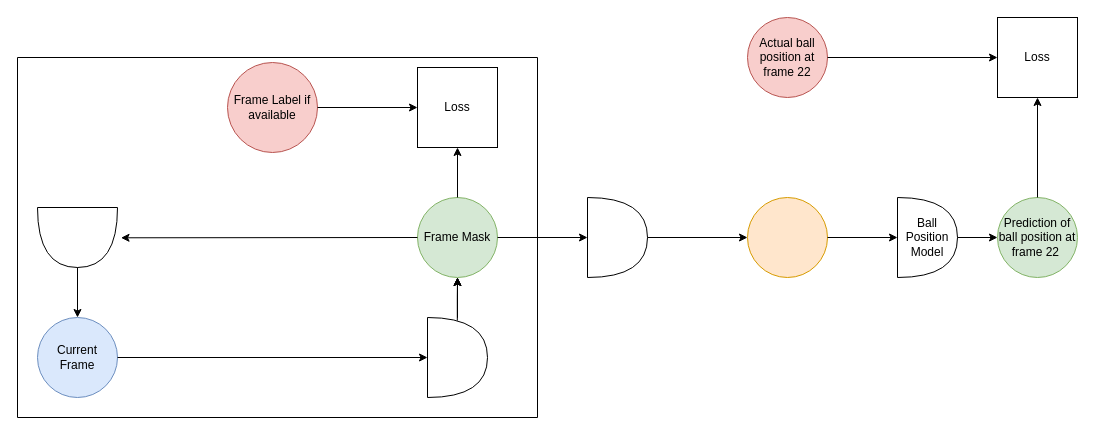
This 1095x435 diagram has some shape labels left out. Here are the shapes that lost their labels. From the top down, the box of each, then its label:
(36, 206, 118, 268): Dellay
(586, 196, 648, 278): Append
(746, 196, 828, 278): Masked Time Series Data
(426, 316, 488, 398): Masking Model
